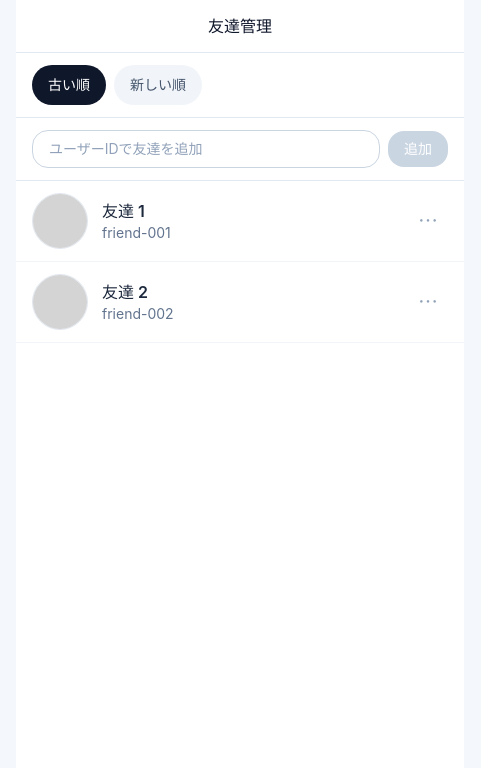
FriendsPage › 並び順を切り替えると先頭から取り直す
Expected: the text "友達 1" is shown, [102, 201, 145, 221]
Click the button "新しい順" at (158, 85), box [114, 65, 202, 105]
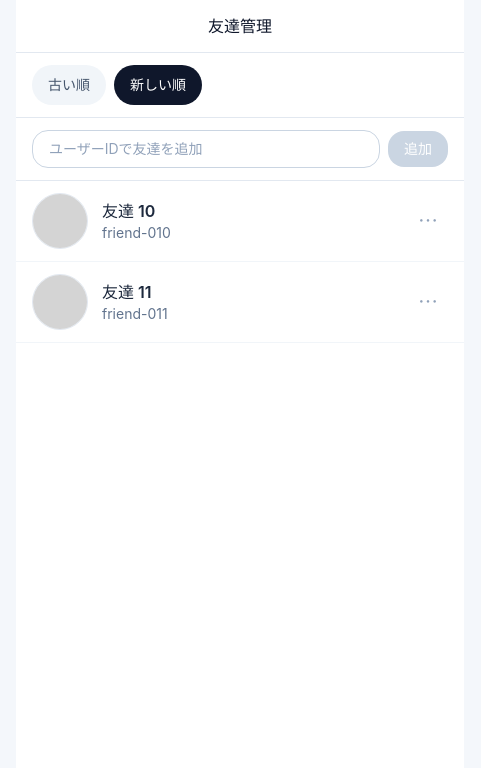
Expected: the text "友達 10" is shown, [102, 201, 155, 221]
